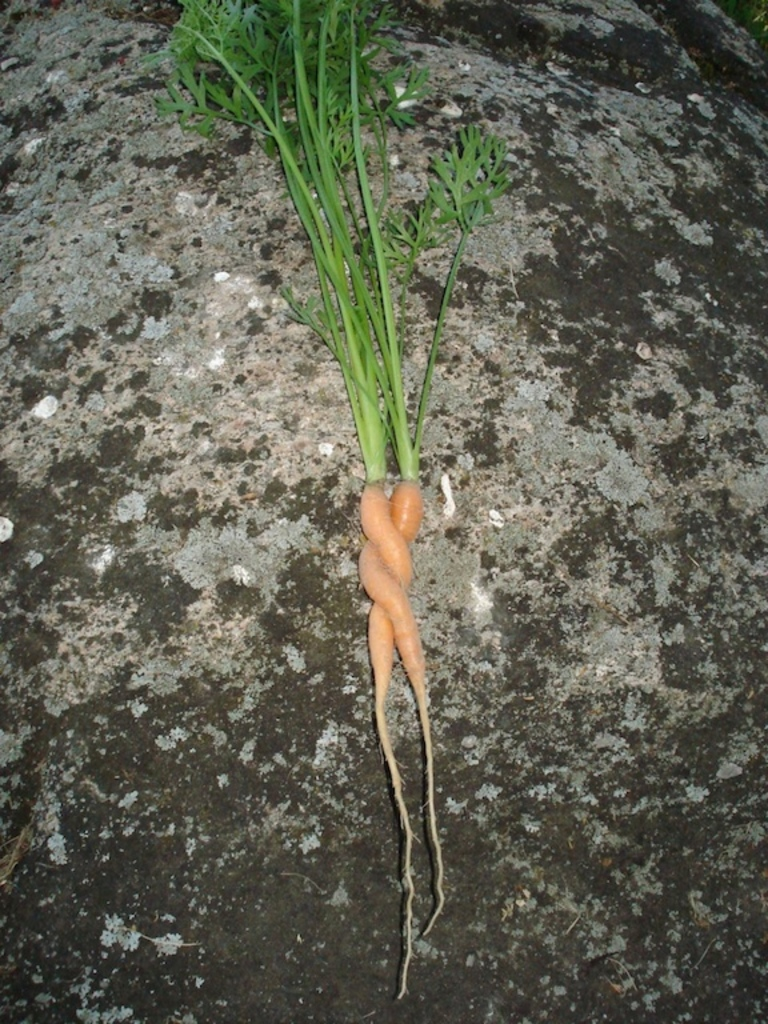Carrot: (339, 430, 470, 994)
